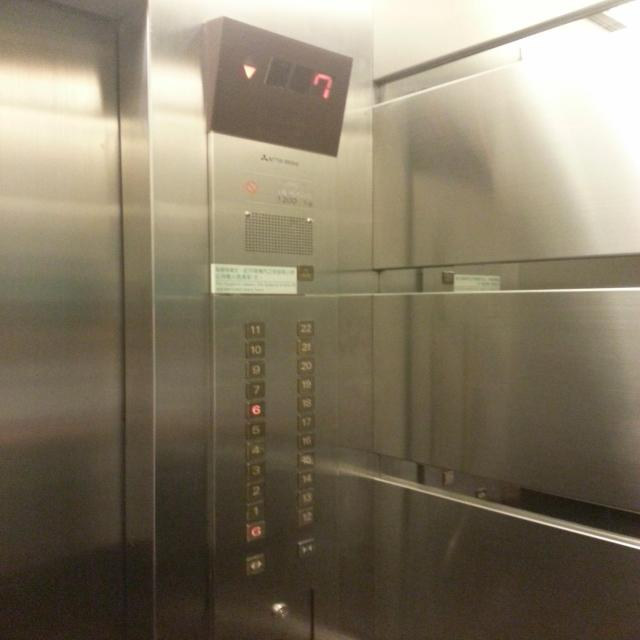1: (247, 500, 266, 521)
10: (246, 340, 266, 358)
11: (245, 321, 265, 338)
12: (296, 507, 316, 528)
13: (297, 487, 317, 508)
14: (297, 469, 316, 488)
15: (297, 451, 316, 469)
16: (297, 432, 316, 451)
17: (297, 413, 316, 431)
18: (297, 394, 316, 412)
19: (297, 375, 315, 394)
2: (246, 481, 267, 500)
20: (297, 356, 315, 374)
21: (297, 338, 316, 356)
22: (297, 319, 315, 337)
3: (246, 460, 267, 479)
4: (247, 440, 266, 459)
5: (246, 420, 266, 440)
6: (246, 401, 266, 419)
7: (246, 381, 266, 398)
9: (246, 360, 266, 379)
G: (244, 520, 266, 541)
alarm: (296, 264, 314, 281)
blur: (270, 601, 290, 621)
close: (297, 538, 316, 558)
open: (246, 552, 266, 576)
